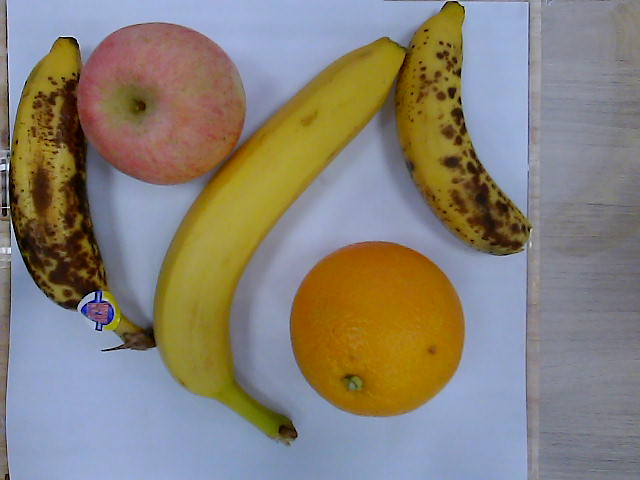fresh_apple: (75, 22, 246, 184)
fresh_banana: (152, 40, 408, 446)
fresh_orange: (289, 241, 467, 415)
rotten_banana: (9, 35, 151, 352), (394, 1, 535, 255)
